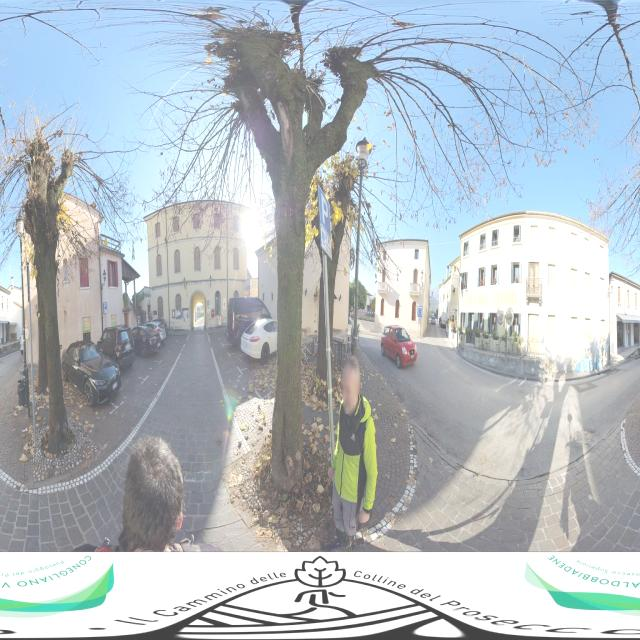car: (62, 338, 121, 407), (95, 326, 135, 370), (240, 318, 278, 362), (380, 326, 417, 368), (129, 324, 159, 357), (146, 318, 166, 346), (151, 318, 167, 342)
